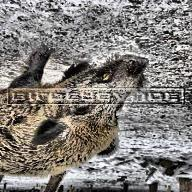boar: (0, 38, 151, 192)
